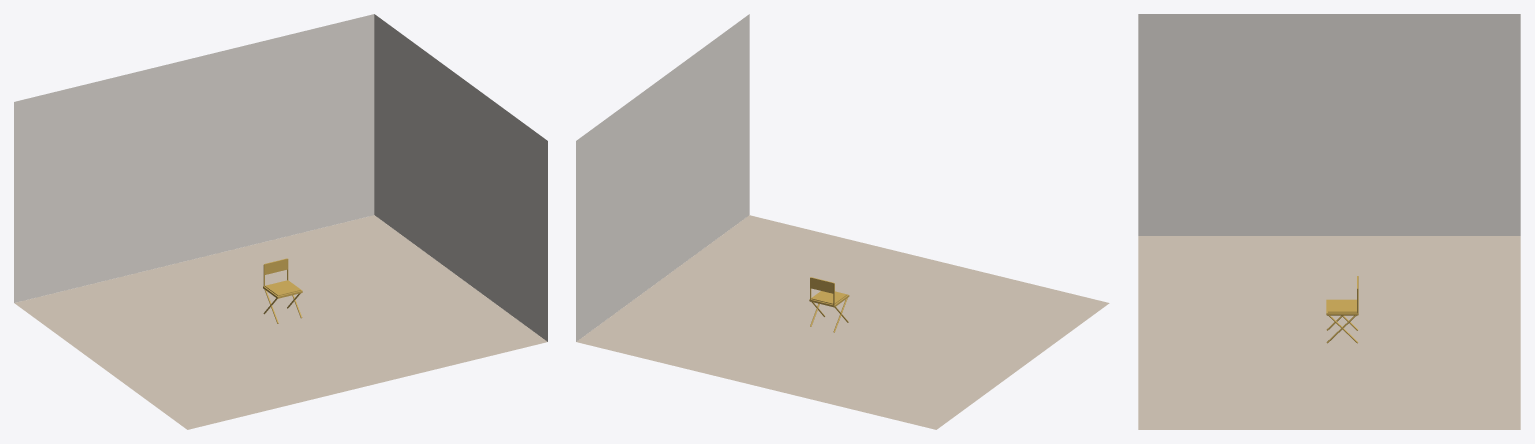
File: silla-plegable.glb
3 views of the same model, side by side, from view 1: azimuth 30°, elevation 25°; view 2: azimuth 150°, elevation 25°; view 3: azimuth 270°, elevation 25° (orthographic). The views are drawn at different scales.
Visible parts, largest first — view 1: sala, decoracion; view 2: sala, decoracion; view 3: sala, decoracion.
Boxes of the visible parts, <box> form: sala: <box>14,14,547,429</box>; decoracion: <box>263,258,302,323</box>; sala: <box>576,14,1109,429</box>; decoracion: <box>809,277,849,332</box>; sala: <box>1138,14,1520,429</box>; decoracion: <box>1326,276,1358,343</box>.
Bounding box in the file's own units: 6 × 3.2 × 5.
